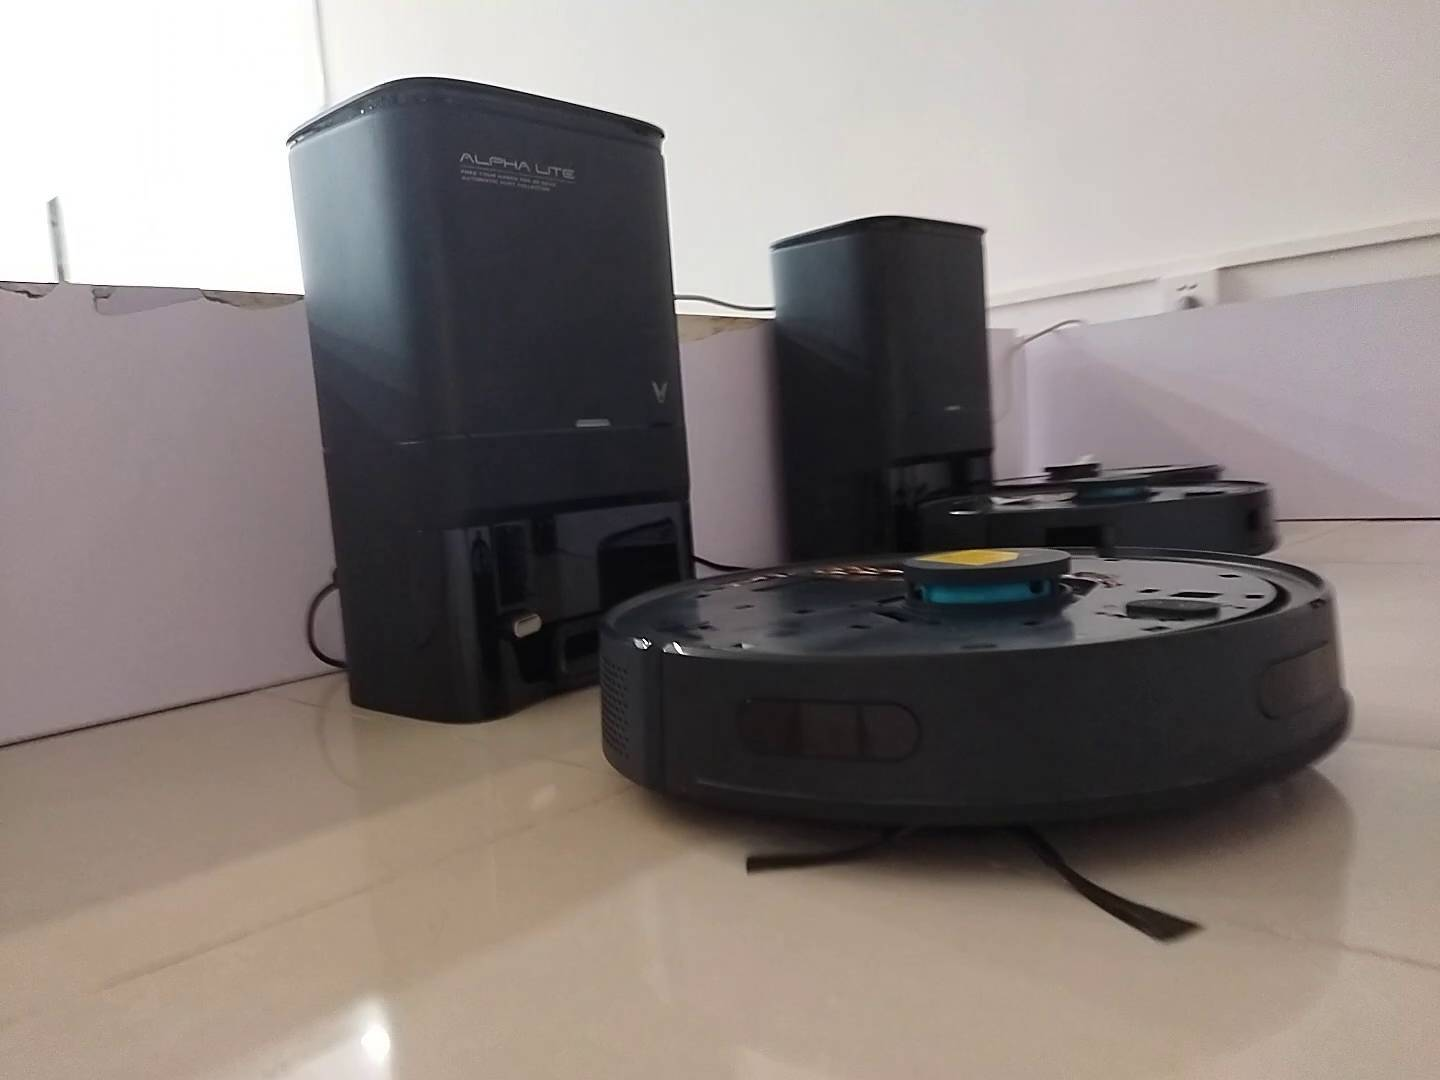dust collecting barrel: (286, 78, 700, 727), (772, 216, 997, 555)
